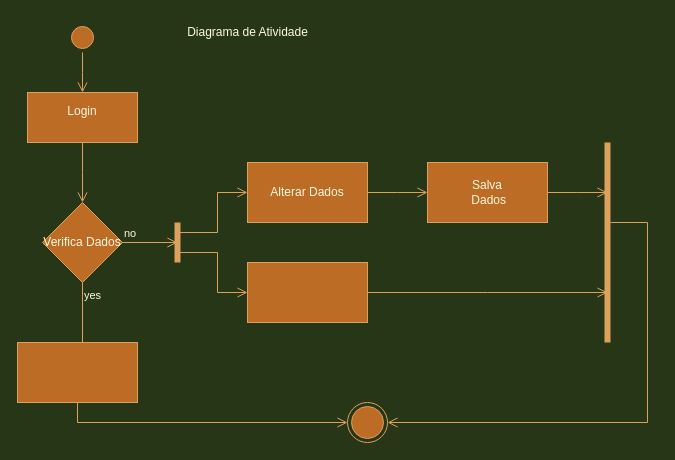
Some shapes in this 675 by 460 pixel diagram are drawn without their labels. Each missing label, with the centre of its shape:
"Exclui Dados" belongs at (x=307, y=292).
"Realizar Login" belongs at (x=77, y=372).
